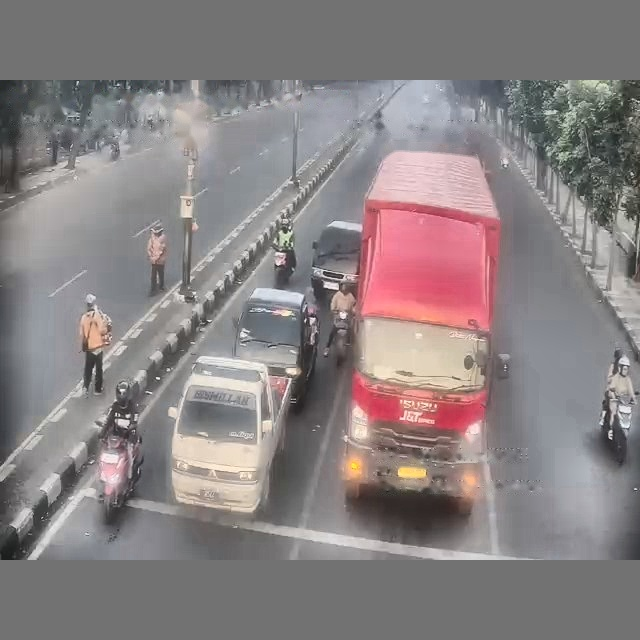Mobil: (232, 288, 318, 410), (311, 220, 361, 299)
Motor: (98, 430, 143, 522), (601, 395, 633, 464), (333, 311, 351, 366), (273, 244, 292, 287), (110, 141, 119, 160), (500, 157, 508, 169)
Truk: (343, 151, 508, 514), (168, 356, 291, 514)
